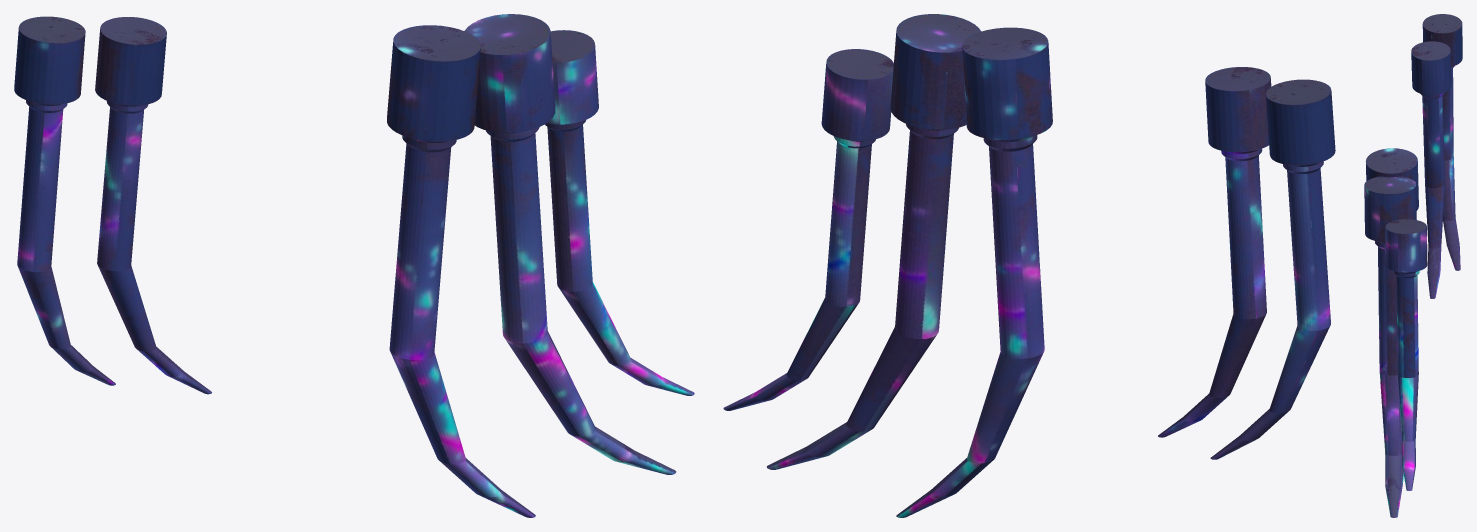
The model's file is Automation_BasalGanglia.glb.
3 renders of one model, left to right at view 1: azimuth 30°, elevation 25°; view 2: azimuth 150°, elevation 25°; view 3: azimuth 270°, elevation 25°, orthographic. The views are drawn at different scales.
Visible parts, largest first — view 1: Current, Potential, Case, Developing_tech, Ethical; view 2: Current, Potential, Ethical, Developing_tech, Case; view 3: Potential, Ethical, Case, Developing_tech, Current.
Part boxes in pixels (x1,y1,x2,y2): Current: [387, 25, 535, 517]; Potential: [464, 14, 676, 474]; Case: [95, 17, 211, 394]; Developing_tech: [14, 16, 115, 385]; Ethical: [545, 30, 694, 395]; Current: [896, 27, 1052, 517]; Potential: [767, 14, 981, 469]; Ethical: [723, 49, 893, 410]; Developing_tech: [1210, 79, 1335, 459]; Case: [1158, 67, 1271, 437]; Potential: [1364, 176, 1416, 517]; Ethical: [1385, 219, 1427, 490]; Case: [1411, 41, 1451, 298]; Developing_tech: [1422, 14, 1462, 270]; Current: [1365, 148, 1418, 484].
Bounding box in the file's own units: 0.8294 × 0.6967 × 0.1848.
1 material, 1 textured.
